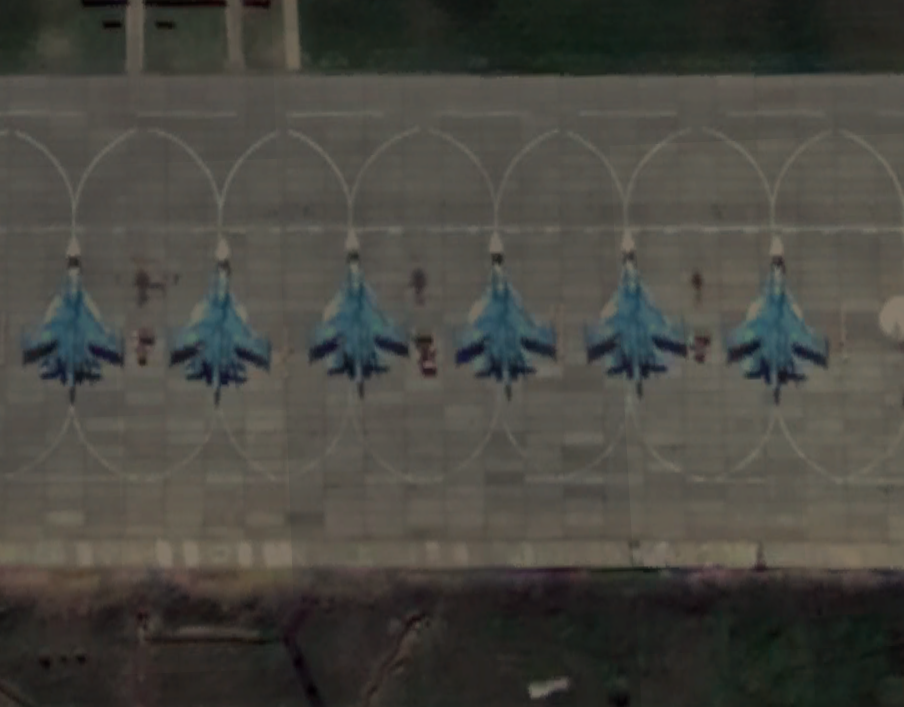A19: (721, 218, 836, 411), (582, 213, 697, 406), (448, 212, 563, 405), (299, 210, 414, 403), (167, 217, 282, 410), (17, 220, 132, 413)
